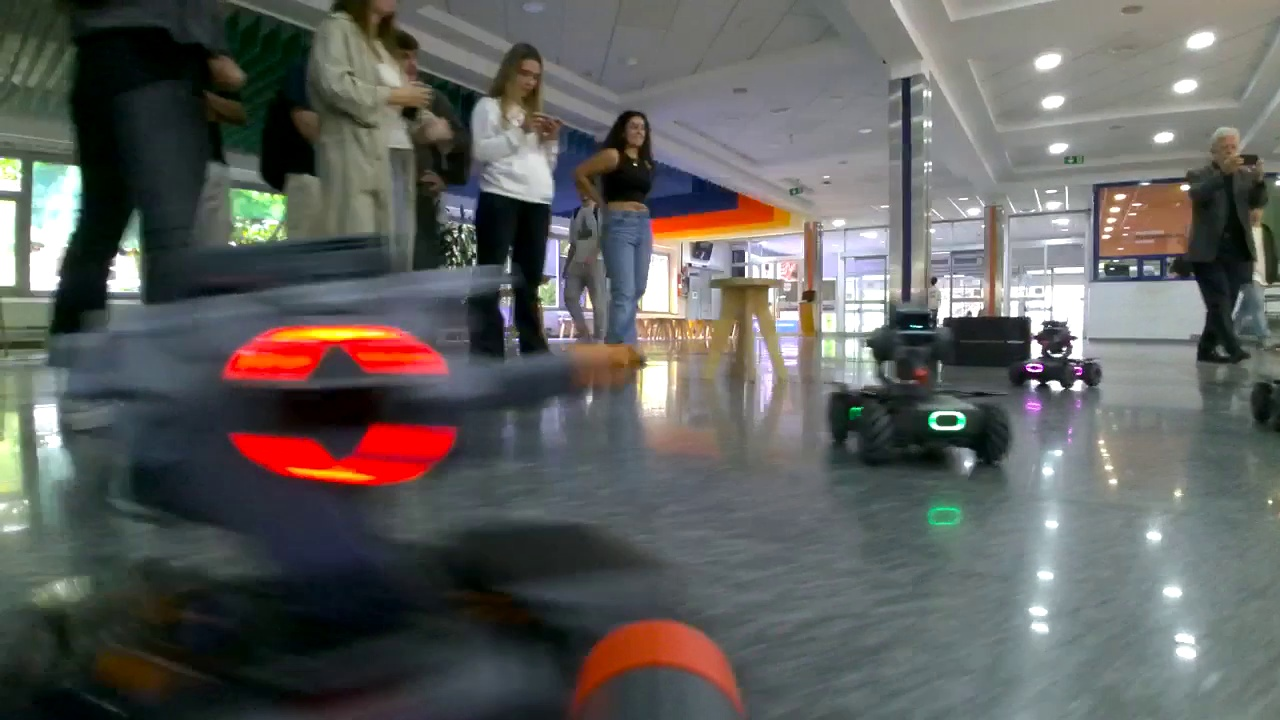robot: (829, 309, 1013, 470), (1008, 325, 1104, 392)
